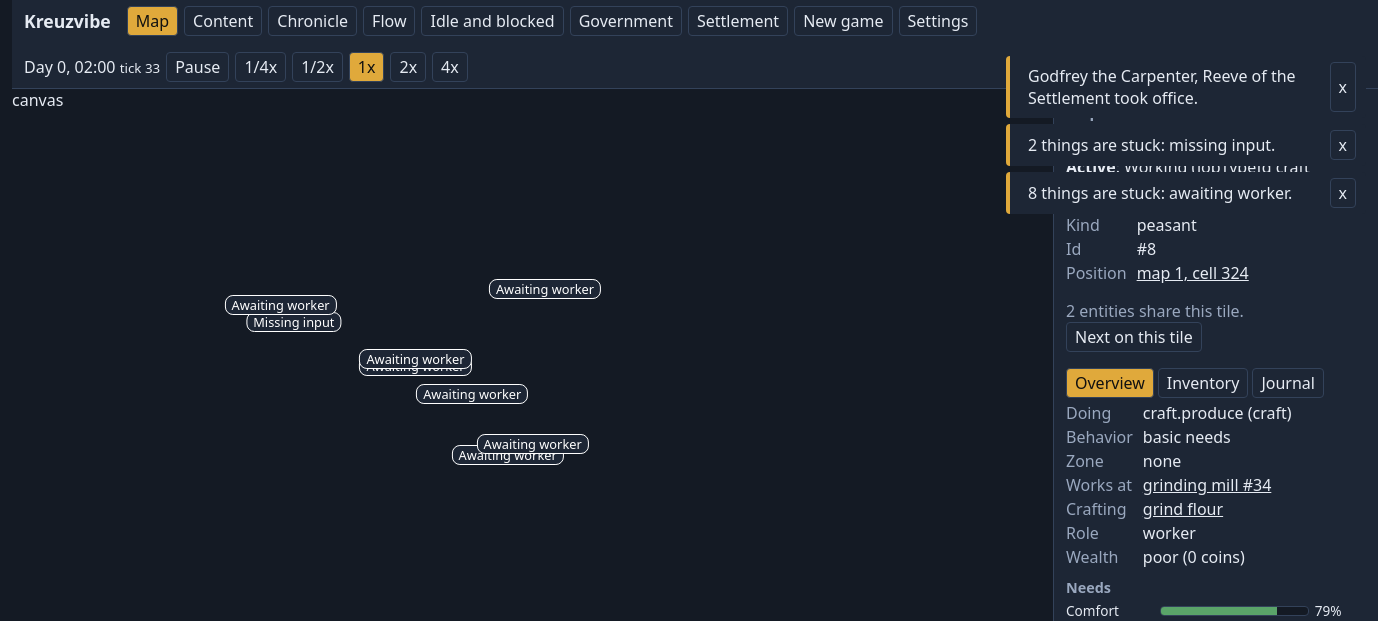
Test: citizen to recipe › also offers the recipe straight from the citizen (one click)
Click the button titled "Open the recipe". click: (1183, 509)
box: [1143,498,1223,520]
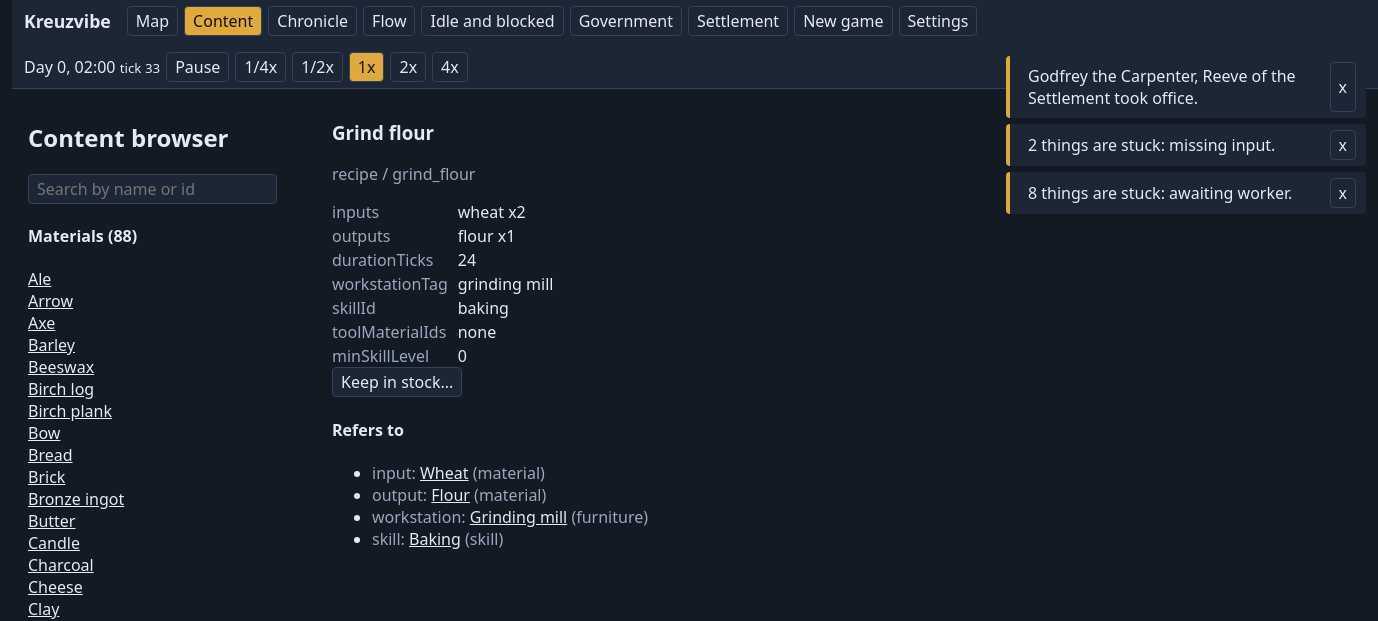
Check: the element "Grind flour" is shown, box [332,120,648,550]
